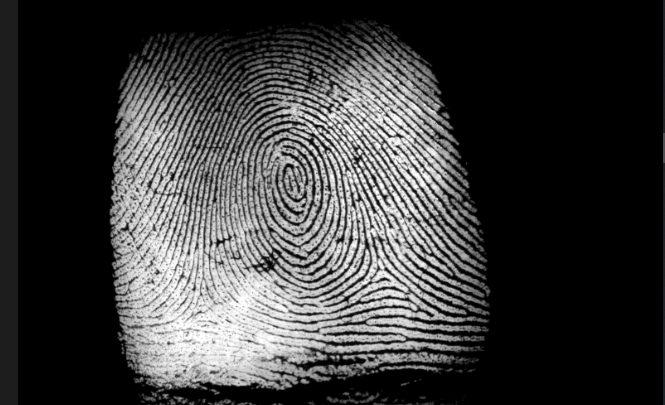nucelo: (274, 159, 310, 203)
verticilo: (176, 289, 213, 316), (364, 259, 393, 290)
